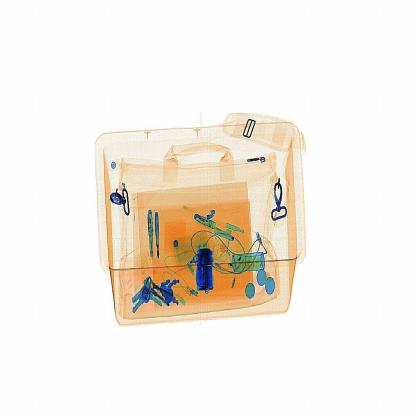scissors: (192, 237, 220, 293)
